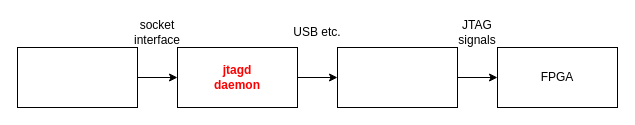
This 635x125 diagram has some shape labels left out. The centre of each missing label's shape, as x and y in pixels:
"JTAG Dongle (UsbBlaster...)" belongs at point 397,77.
"Quartus Programmer" belongs at point 77,77.
